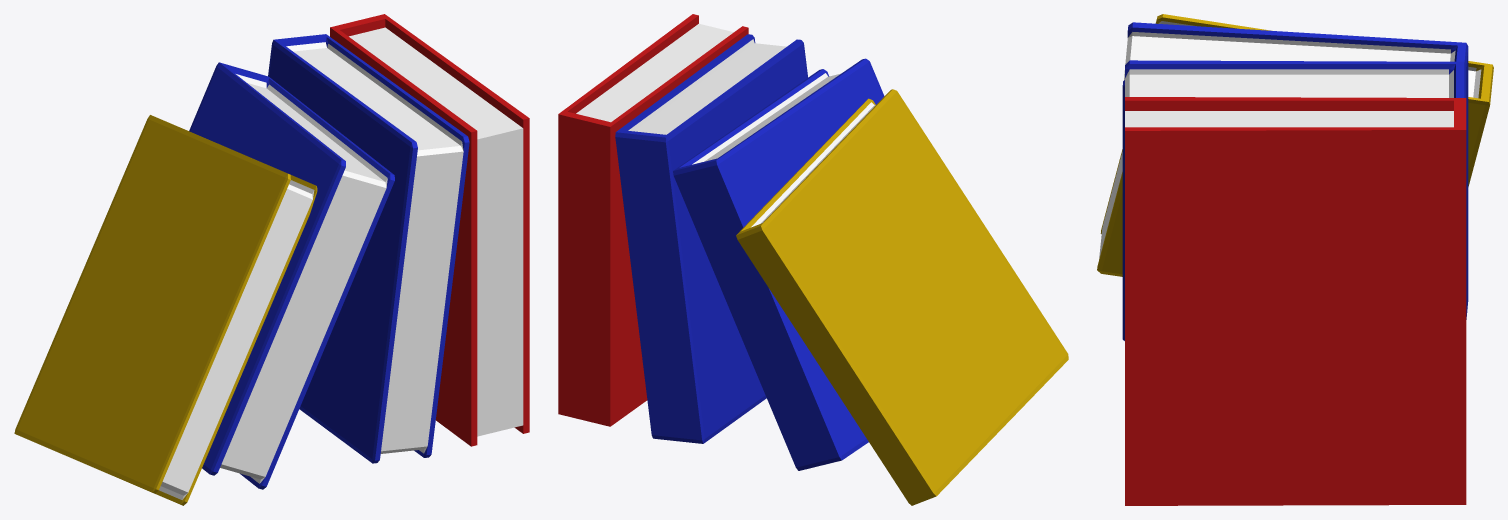
The model's file is Book_stack_2.obj.
3 views of the same model, side by side, from view 1: azimuth 30°, elevation 25°; view 2: azimuth 150°, elevation 25°; view 3: azimuth 270°, elevation 25° (orthographic). The views are drawn at different scales.
Parts seen in each view (by area): view 1: Book_stack_2_Cube.004; view 2: Book_stack_2_Cube.004; view 3: Book_stack_2_Cube.004.
Boxes of the visible parts, left/top/right/bottom form: Book_stack_2_Cube.004: left=14, top=14, right=529, bottom=505; Book_stack_2_Cube.004: left=558, top=14, right=1068, bottom=505; Book_stack_2_Cube.004: left=1097, top=14, right=1493, bottom=505.
Size of the model in its own units: 1.02 by 0.856 by 0.7655.
